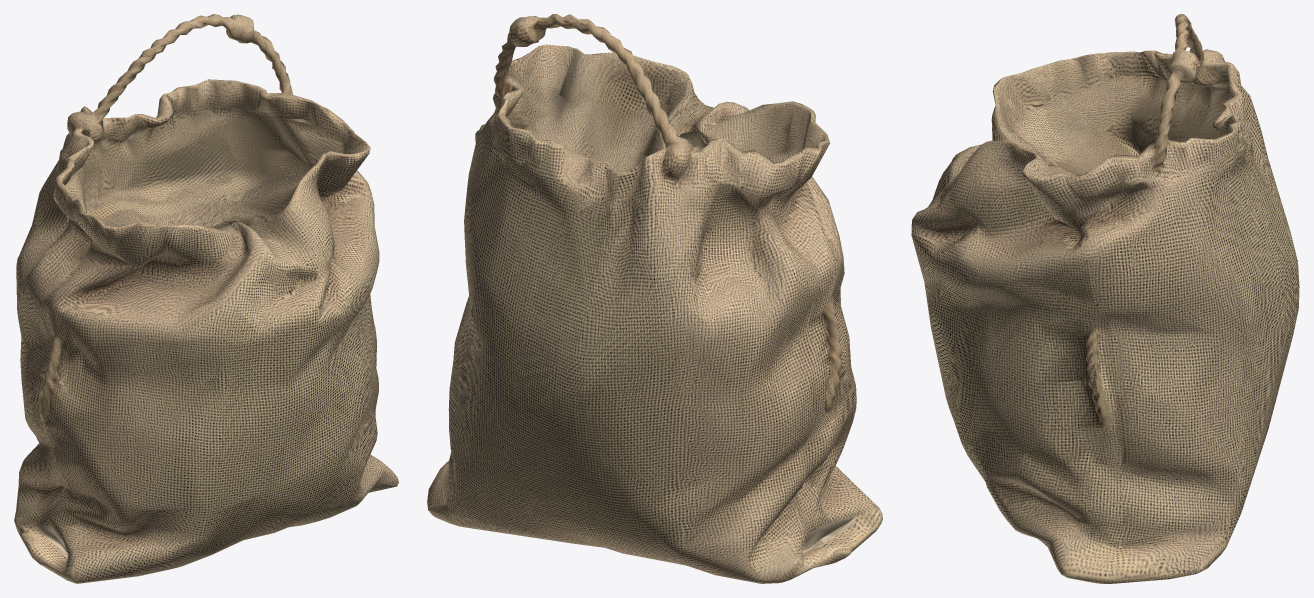
Rendered from Meshy_AI_Make_me_a_burlap_bag__0529001220_texture.glb.
3 renders of one model, left to right at view 1: azimuth 30°, elevation 25°; view 2: azimuth 150°, elevation 25°; view 3: azimuth 270°, elevation 25°, orthographic. The views are drawn at different scales.
Parts seen in each view (by area): view 1: Mesh_0; view 2: Mesh_0; view 3: Mesh_0.
Boxes of the visible parts, left/top/right/bottom form: Mesh_0: left=14, top=14, right=398, bottom=583; Mesh_0: left=427, top=14, right=882, bottom=583; Mesh_0: left=911, top=14, right=1299, bottom=583.
Size of the model in its own units: 1.5 by 1.91 by 1.37.
Materials: 1 (1 with a texture image).
